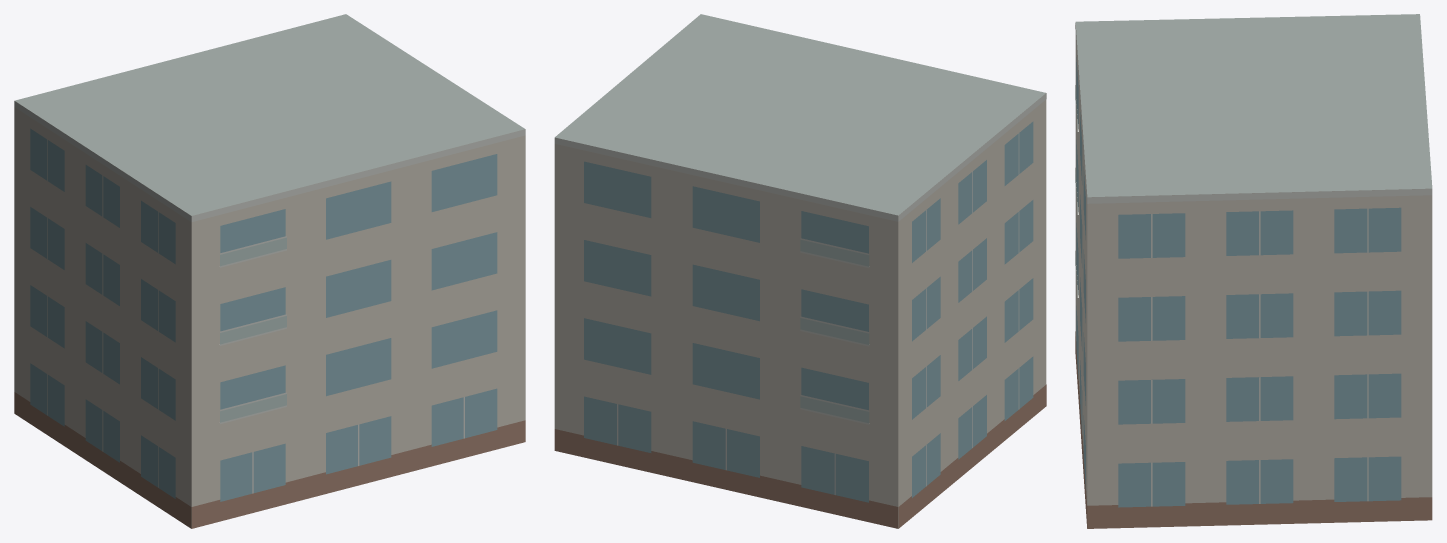
File: survey-upis-32992059.glb
The picture shows the model from 3 angles, left to right: view 1: azimuth 30°, elevation 25°; view 2: azimuth 150°, elevation 25°; view 3: azimuth 270°, elevation 25°; orthographic projection. The views are drawn at different scales.
Visible parts, largest first — view 1: survey-upis-32992059.tmp; view 2: survey-upis-32992059.tmp; view 3: survey-upis-32992059.tmp.
Boxes of the visible parts, x1=… form: survey-upis-32992059.tmp: x1=14, y1=14, x2=525, y2=528; survey-upis-32992059.tmp: x1=554, y1=14, x2=1046, y2=528; survey-upis-32992059.tmp: x1=1075, y1=14, x2=1432, y2=528.
Size of the model in its own units: 14.46 by 12.2 by 11.91.
